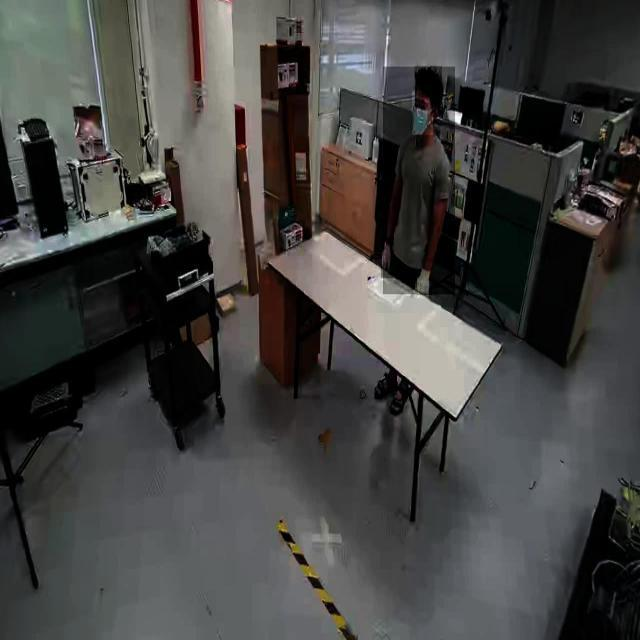gloves: (417, 262, 433, 298), (382, 237, 394, 279)
